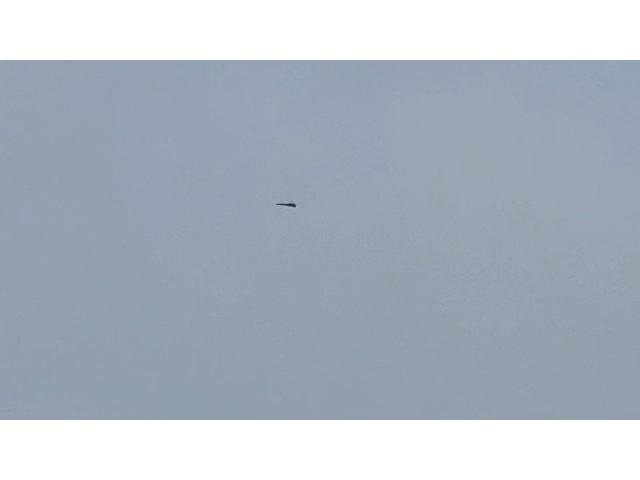Anti-Drone: (274, 199, 298, 209)
